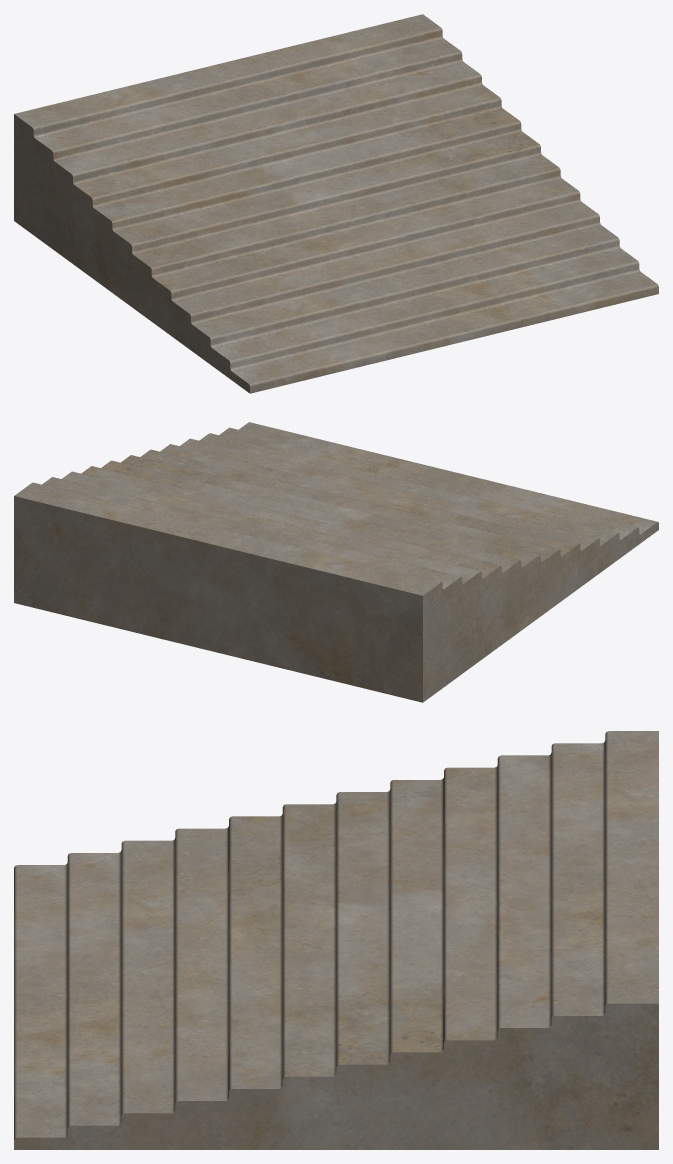
The model's file is SM_RampLow.fbx.
The picture shows the model from 3 angles, top to bottom: view 1: azimuth 30°, elevation 25°; view 2: azimuth 150°, elevation 25°; view 3: azimuth 270°, elevation 25°; orthographic projection. The views are drawn at different scales.
Visible parts, largest first — view 1: Stairs; view 2: Stairs; view 3: Stairs.
Boxes of the visible parts, x1=… form: Stairs: x1=14, y1=14, x2=658, y2=393; Stairs: x1=14, y1=422, x2=658, y2=702; Stairs: x1=14, y1=731, x2=658, y2=1149.
Size of the model in its own units: 500 by 125 by 500.
